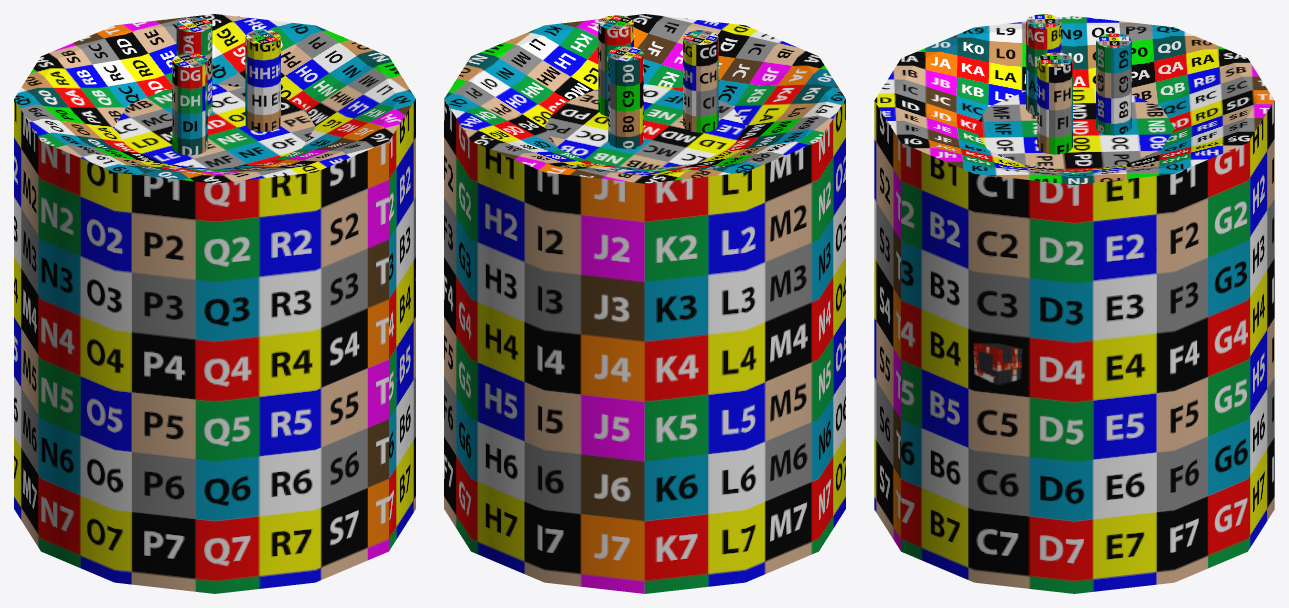
Rendered from candle2.FBX.
3 renders of one model, left to right at view 1: azimuth 30°, elevation 25°; view 2: azimuth 150°, elevation 25°; view 3: azimuth 270°, elevation 25°, orthographic.
Parts seen in each view (by area): view 1: Cylinder002, candle2; view 2: Cylinder002, candle2; view 3: Cylinder002, candle2.
Part boxes in pixels (x1=…): Cylinder002: x1=14, y1=14, x2=415, y2=593; candle2: x1=172, y1=17, x2=280, y2=155; Cylinder002: x1=444, y1=14, x2=845, y2=593; candle2: x1=598, y1=15, x2=718, y2=148; Cylinder002: x1=874, y1=16, x2=1274, y2=593; candle2: x1=1026, y1=14, x2=1131, y2=154.
Size of the model in its own units: 0.1975 by 0.2549 by 0.1975.
Materials: 1 (1 with a texture image).
